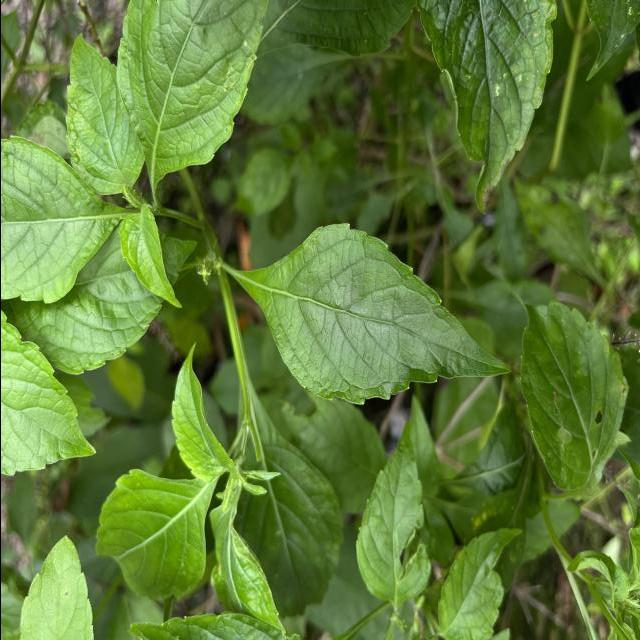Ocimum gratissimum: (228, 214, 512, 411), (412, 0, 566, 224), (112, 0, 270, 184), (511, 287, 632, 501), (0, 134, 127, 306), (90, 463, 218, 605), (0, 307, 102, 478), (356, 414, 432, 626), (422, 522, 524, 640)
